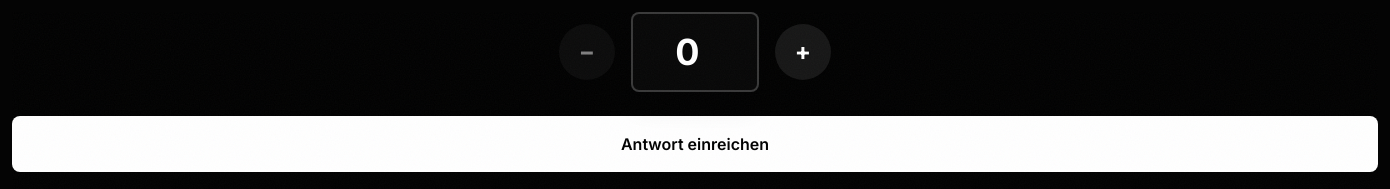
Scenario: CountPuzzle › should decrement count when - button is clicked
This screenshot has width=1390, height=189.
// First increment to 2
Click the button named "Erhöhen". click: (803, 52)
box: x1=775 y1=24 x2=831 y2=80
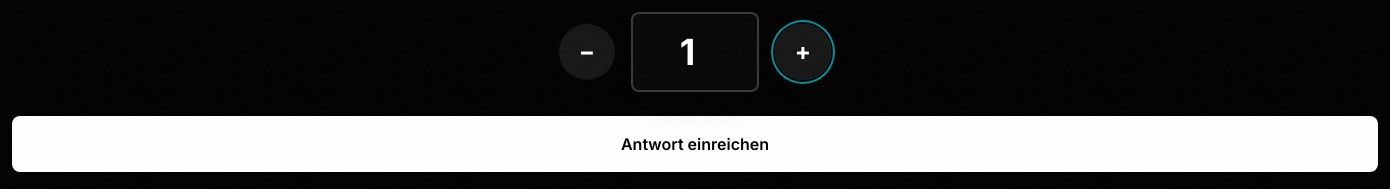
Click the button named "Erhöhen". click: (803, 52)
box: x1=775 y1=24 x2=831 y2=80
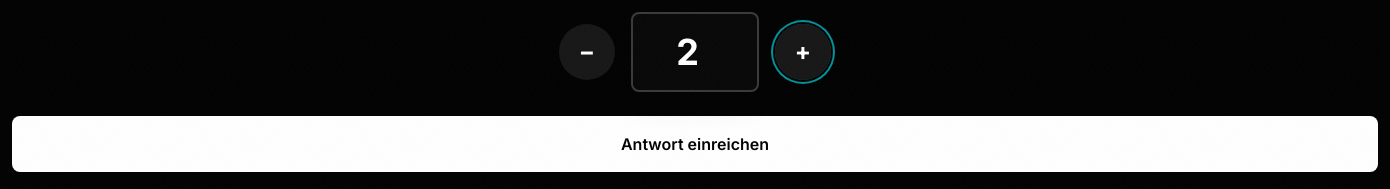
Now the number field holds "2", box x1=631 y1=12 x2=759 y2=92
// Then decrement to 1
Click the button named "Verringern". click: (587, 52)
box: x1=559 y1=24 x2=615 y2=80
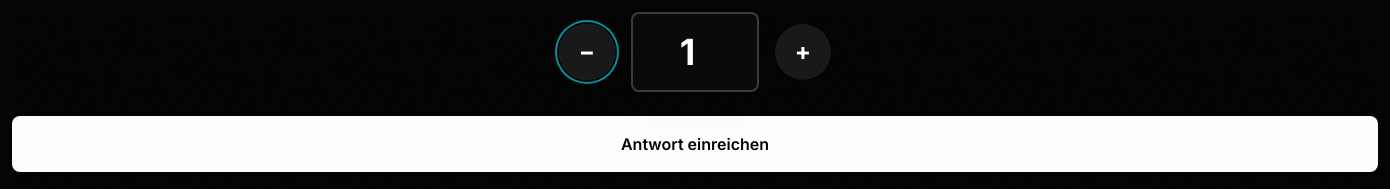
Now the number field holds "1", box x1=631 y1=12 x2=759 y2=92
